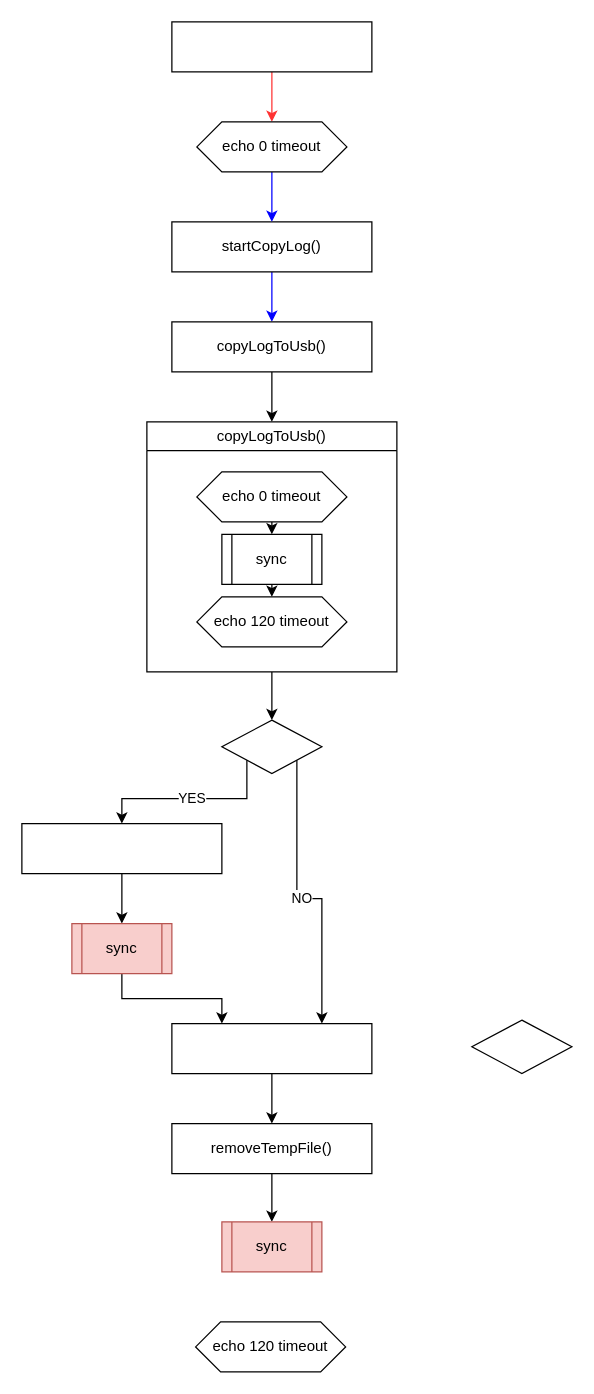
The diagram is 594 pixels wide and 1394 high, and some of its shapes have lost their labels. Each missing label, with the box of its shape:
checkResultCopy(): (171, 1022, 372, 1074)
handleEvtCopyLogToUSB(): (171, 21, 372, 72)
MP: (221, 719, 322, 774)
onCryptoProcLenChanged(): (21, 822, 222, 874)
QNX: (471, 1019, 572, 1074)
